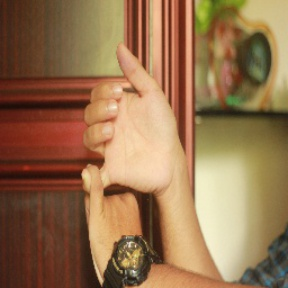S: (73, 37, 181, 287)
